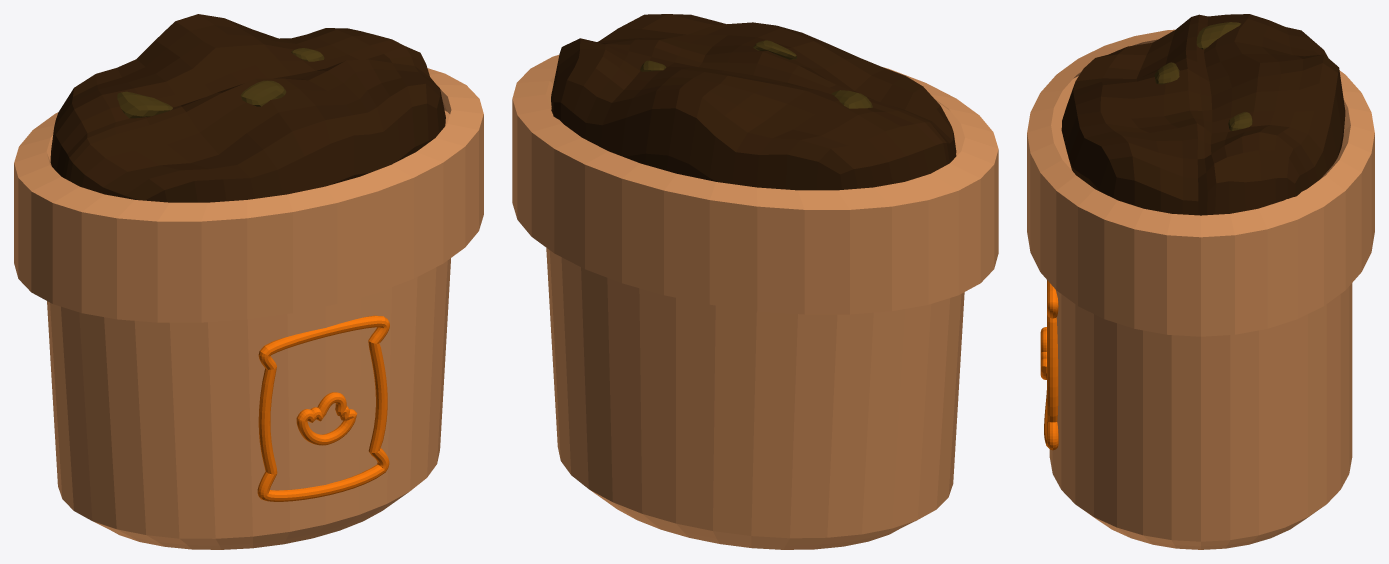
Rendered from abonar_cestito.fbx.
3 views of the same model, side by side, from view 1: azimuth 30°, elevation 25°; view 2: azimuth 150°, elevation 25°; view 3: azimuth 270°, elevation 25° (orthographic). The views are drawn at different scales.
Parts seen in each view (by area): view 1: Cilindro, Cubo, abonar, Cubo.002; view 2: Cilindro, Cubo, Cubo.002; view 3: Cilindro, Cubo, abonar, Cubo.002.
Part boxes in pixels (left/top/right/bottom): Cilindro: left=14, top=68, right=483, bottom=549; Cubo: left=50, top=14, right=445, bottom=202; abonar: left=257, top=315, right=389, bottom=501; Cubo.002: left=117, top=48, right=324, bottom=118; Cilindro: left=512, top=55, right=998, bottom=549; Cubo: left=551, top=14, right=956, bottom=190; Cubo.002: left=640, top=40, right=872, bottom=108; Cilindro: left=1027, top=29, right=1374, bottom=549; Cubo: left=1061, top=14, right=1345, bottom=215; abonar: left=1040, top=280, right=1058, bottom=450; Cubo.002: left=1154, top=22, right=1252, bottom=130.
Size of the model in its own units: 199 by 188 by 140.
